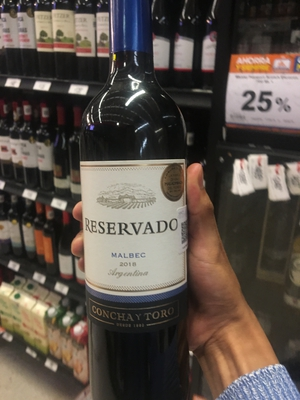reservado malbec: (76, 7, 201, 378)
